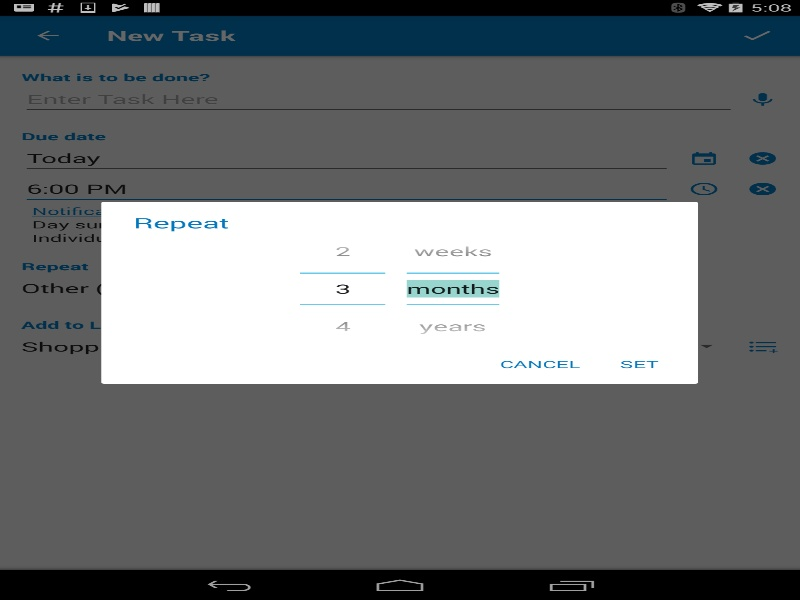Button: (406, 303, 499, 345), (406, 232, 499, 273), (484, 347, 596, 381), (300, 303, 385, 345), (300, 232, 385, 273), (596, 347, 682, 381)
Input: (406, 273, 499, 303), (300, 273, 385, 303)
